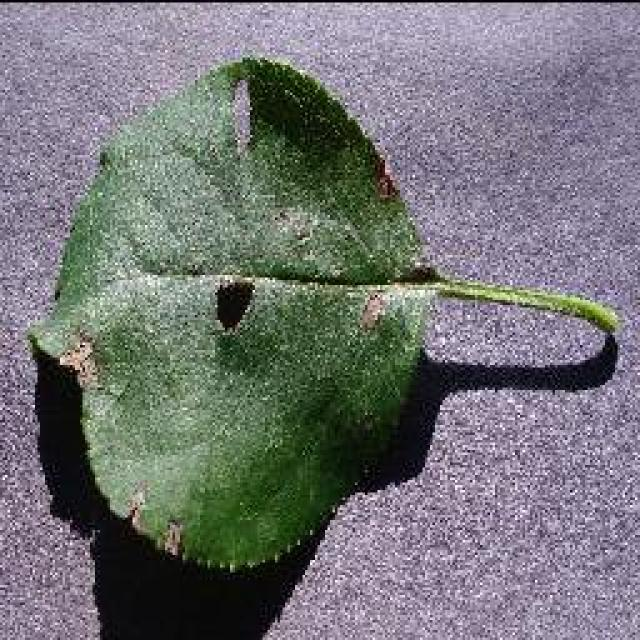Black_rot: (25, 52, 620, 572)
